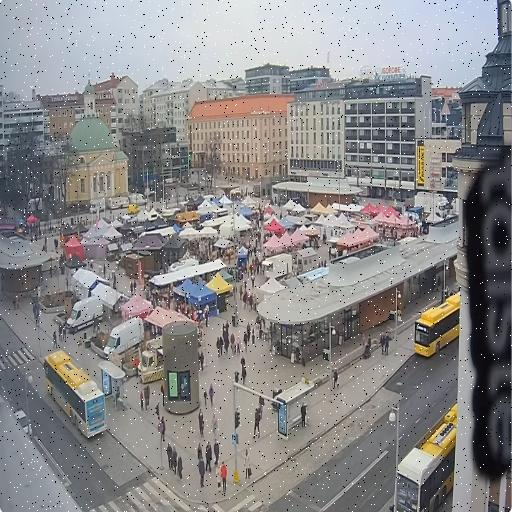Bus: (397, 403, 457, 511), (44, 351, 106, 437), (415, 293, 460, 357)
Car: (15, 410, 31, 436)
Delivery: (104, 318, 143, 358), (67, 297, 103, 332), (137, 336, 163, 383)
